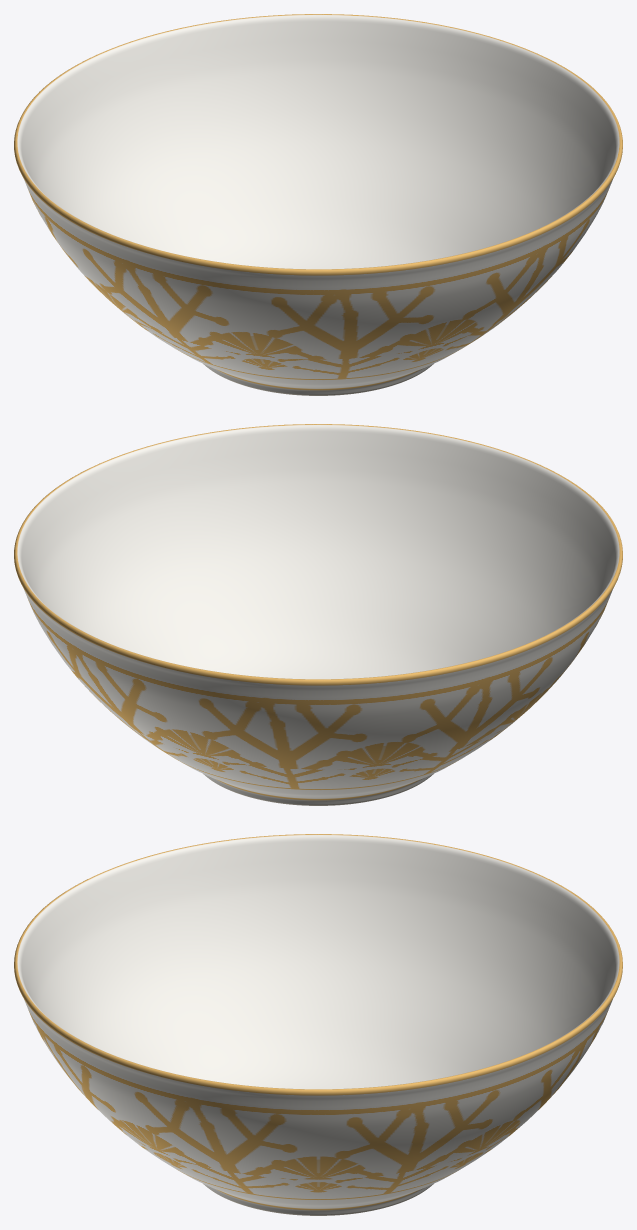
Rendered from coral-bowl.glb.
3 views of the same model, one above another, from view 1: azimuth 30°, elevation 25°; view 2: azimuth 150°, elevation 25°; view 3: azimuth 270°, elevation 25° (orthographic).
Visible parts, largest first — view 1: coral-bowl; view 2: coral-bowl; view 3: coral-bowl.
Boxes of the visible parts, x1,y1,x2,y2 form: coral-bowl: (14, 14, 622, 395); coral-bowl: (14, 424, 622, 805); coral-bowl: (14, 834, 622, 1215).
Bounding box in the file's own units: 0.2103 × 0.0771 × 0.2103.
Materials: 1 (1 with a texture image).
